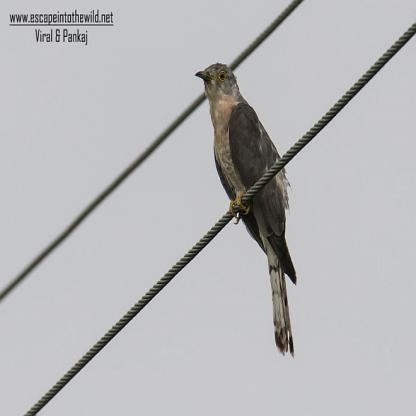Burung: (194, 62, 296, 356)
